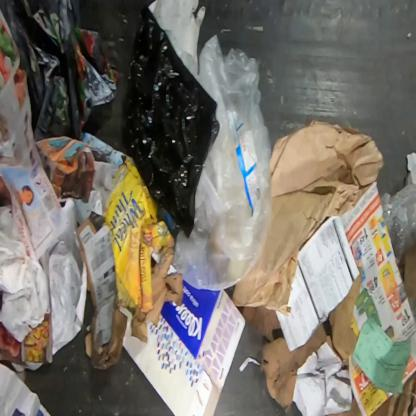cardboard: (118, 280, 248, 415), (102, 154, 183, 343), (259, 276, 362, 414), (76, 217, 127, 370), (369, 370, 415, 415), (398, 244, 415, 327), (324, 396, 363, 415)
soft_plastic: (171, 34, 272, 292), (121, 6, 219, 239), (0, 0, 120, 143), (381, 183, 415, 268)
